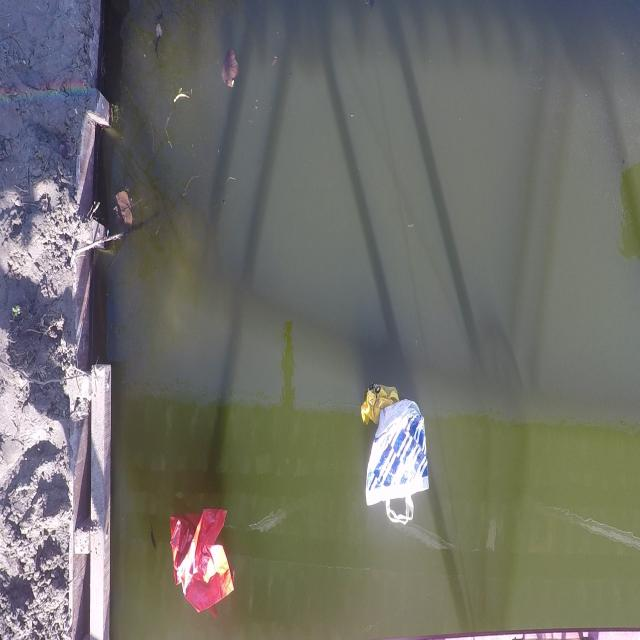Sac plastique: (354, 378, 441, 542), (165, 499, 242, 624), (347, 354, 404, 436)
